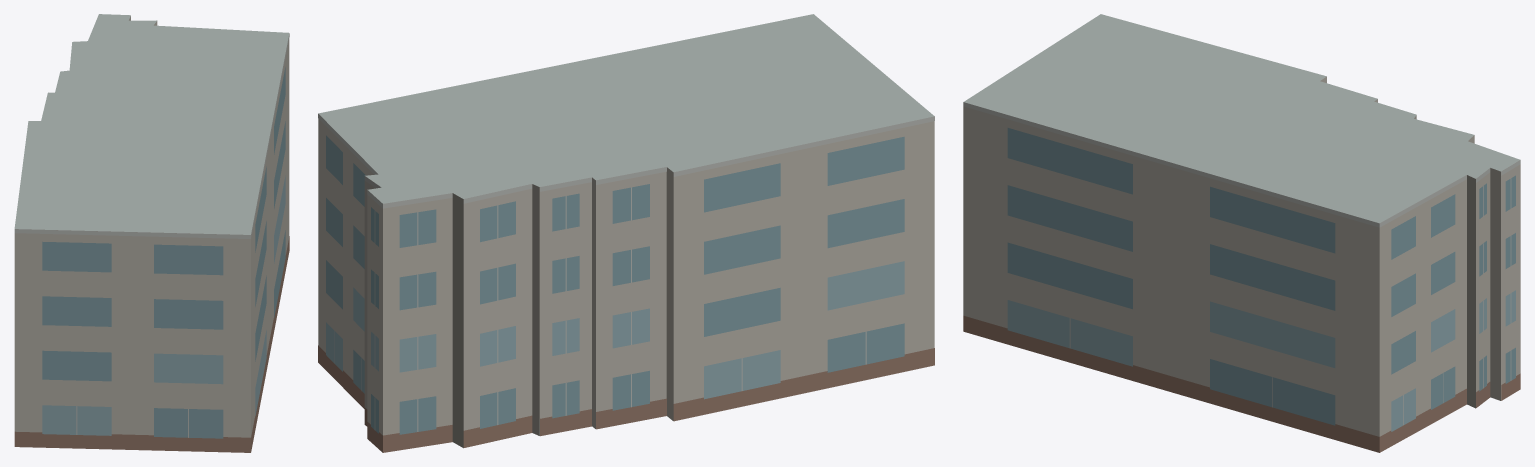
The model's file is survey-upis-32595429.glb.
3 renders of one model, left to right at view 1: azimuth 30°, elevation 25°; view 2: azimuth 150°, elevation 25°; view 3: azimuth 270°, elevation 25°, orthographic. The views are drawn at different scales.
Visible parts, largest first — view 1: survey-upis-32595429.tmp; view 2: survey-upis-32595429.tmp; view 3: survey-upis-32595429.tmp.
Boxes of the visible parts, bbox=[...] form: survey-upis-32595429.tmp: bbox=[14, 14, 289, 452]; survey-upis-32595429.tmp: bbox=[318, 14, 934, 452]; survey-upis-32595429.tmp: bbox=[963, 14, 1520, 452].
Size of the model in its own units: 25.04 by 12.8 by 28.16.
